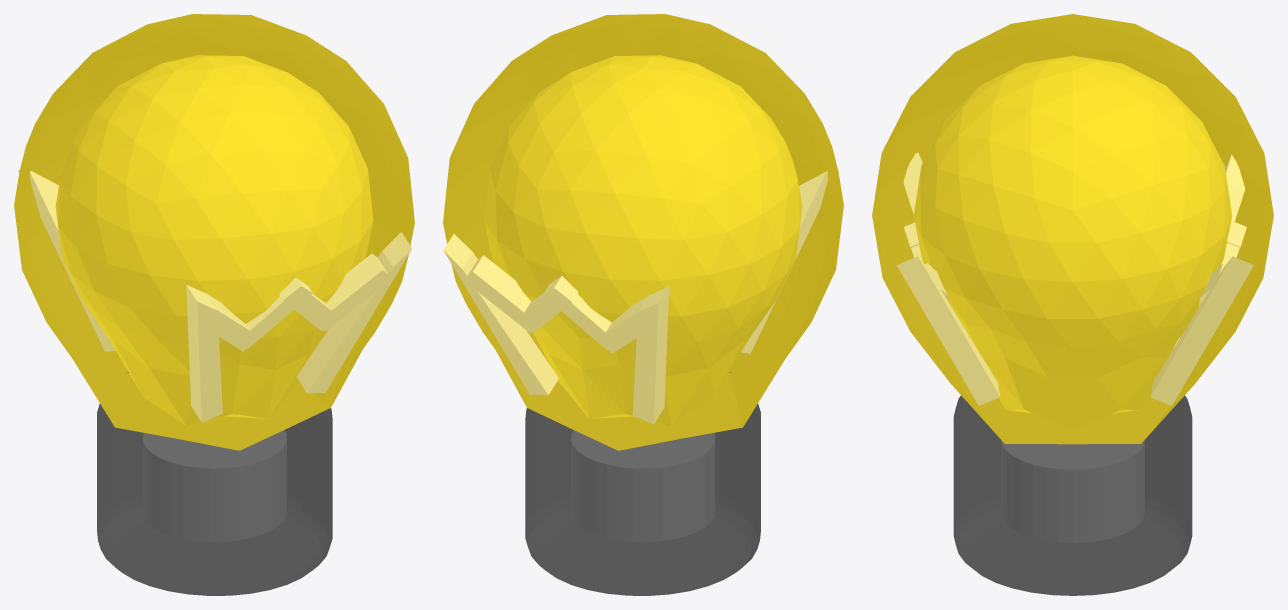
File: bulb.glb
3 renders of one model, left to right at view 1: azimuth 30°, elevation 25°; view 2: azimuth 150°, elevation 25°; view 3: azimuth 270°, elevation 25°, orthographic.
Visible parts, largest first — view 1: Icosphere, Cylinder, Cube.001; view 2: Icosphere, Cylinder, Cube.001; view 3: Icosphere, Cylinder, Cube.001.
Part boxes in pixels (<box>): Icosphere: <box>14,14,414,450</box>; Cylinder: <box>97,372,332,595</box>; Cube.001: <box>18,170,411,422</box>; Icosphere: <box>443,14,843,450</box>; Cylinder: <box>525,372,760,595</box>; Cube.001: <box>443,171,827,424</box>; Icosphere: <box>872,14,1273,444</box>; Cylinder: <box>953,395,1192,595</box>; Cube.001: <box>896,152,1253,405</box>.
Bounding box in the file's own units: 1.54 × 2.2 × 1.54.
